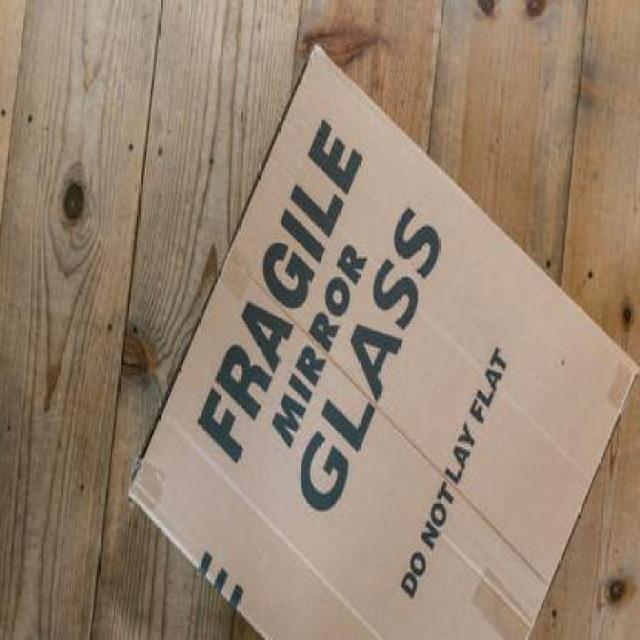box: (123, 42, 639, 640)
